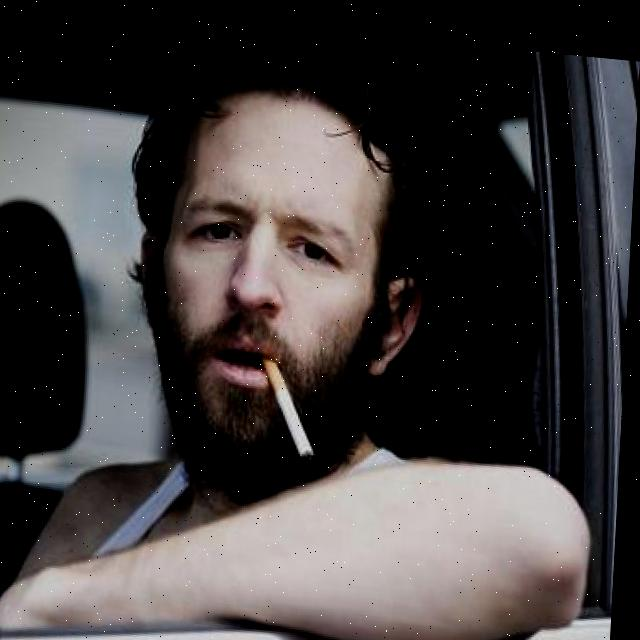cigarette: (264, 354, 324, 457)
